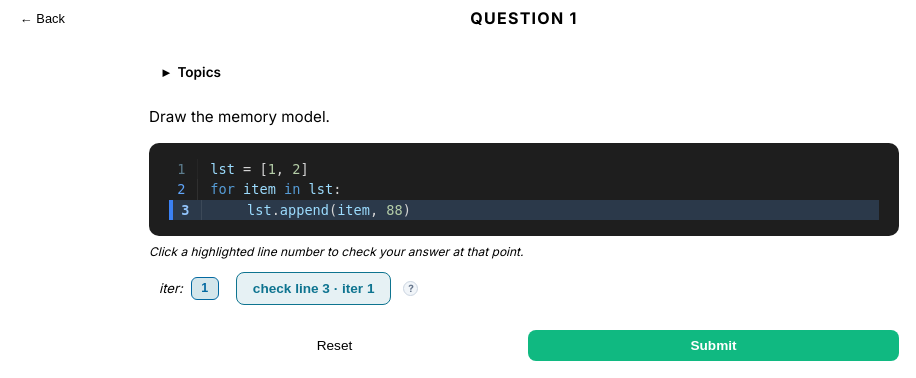
Test: QuestionTab component › moves back to a lower line number when the next step loops back to an earlier line
Expected: the text "Draw the memory model." is shown, [149,107,330,126]
Step 1. Click the button with aria-label "check answer at line 3" → (314, 288), box [236,272,392,305]
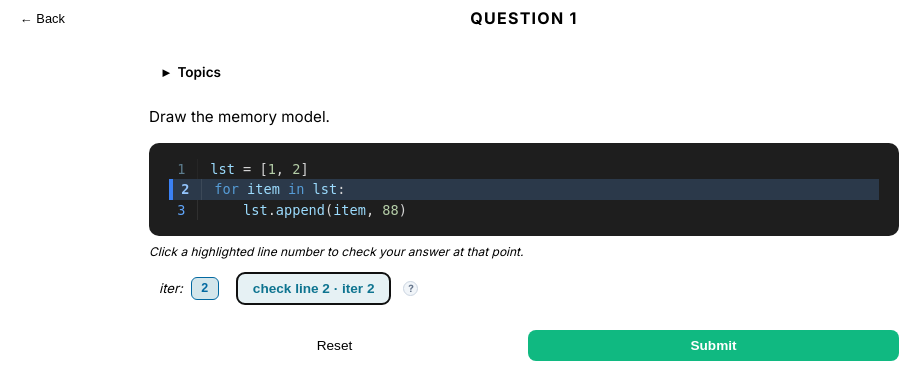
Now the button with aria-label "check answer at line 2" shows "iter 2", box [236,272,392,305]
